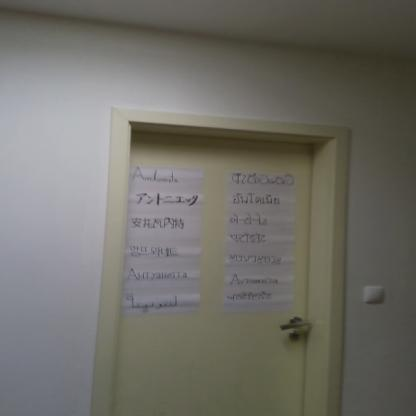door: (128, 132, 312, 416)
lever: (276, 321, 314, 331)
